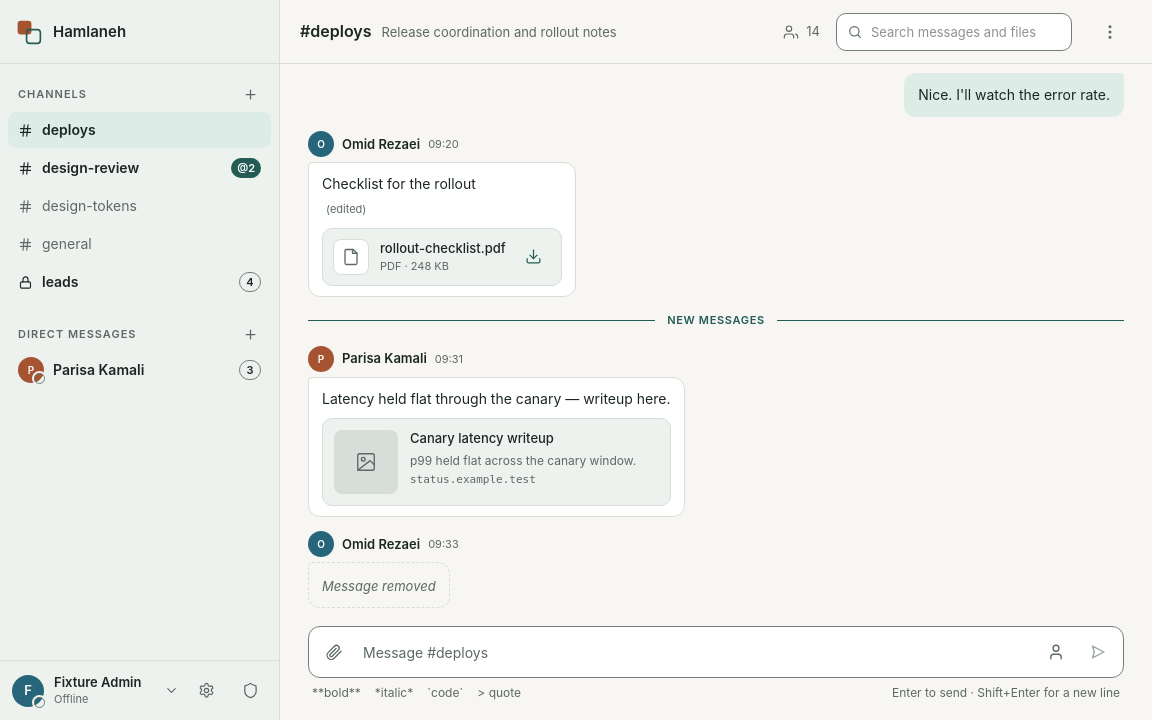
it: the unread divider › is placed at the read position and holds while new messages arrive
(page scrolled)
Type "Following along." into the text box labelled "Message #deploys".
click(695, 653); type("Following along.")  # box x1=359 y1=637 x2=1031 y2=669
Then press Enter
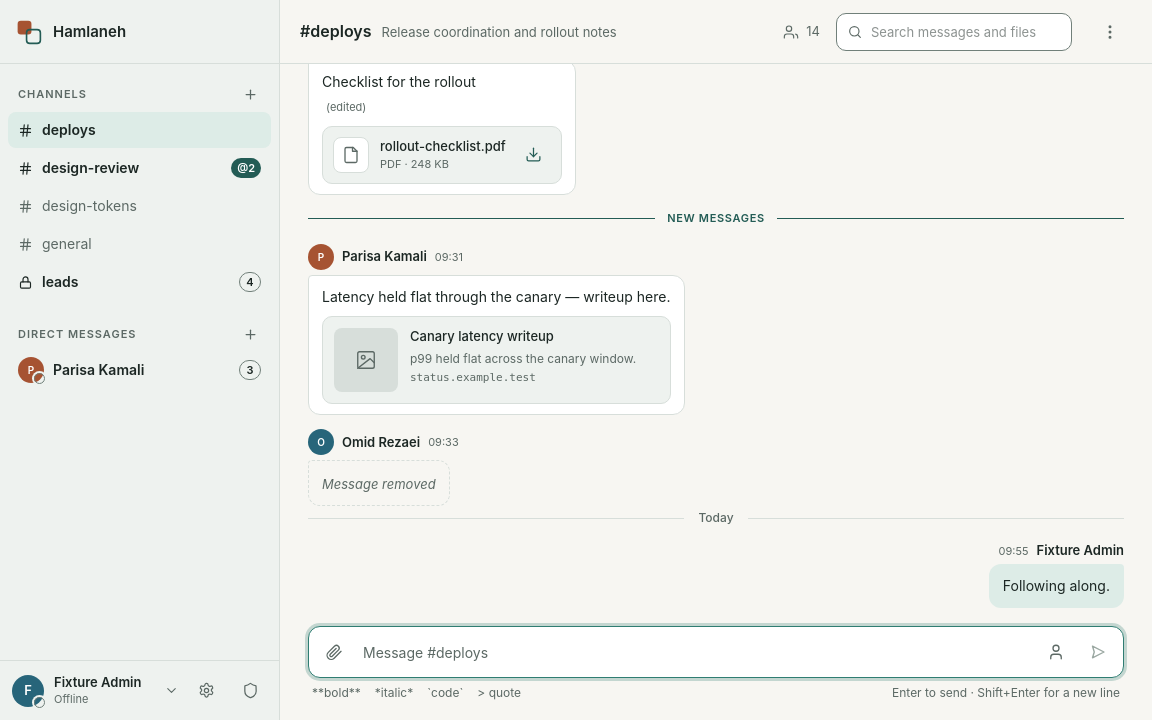
Now the text "Following along." is shown, box x1=1003 y1=575 x2=1110 y2=597
